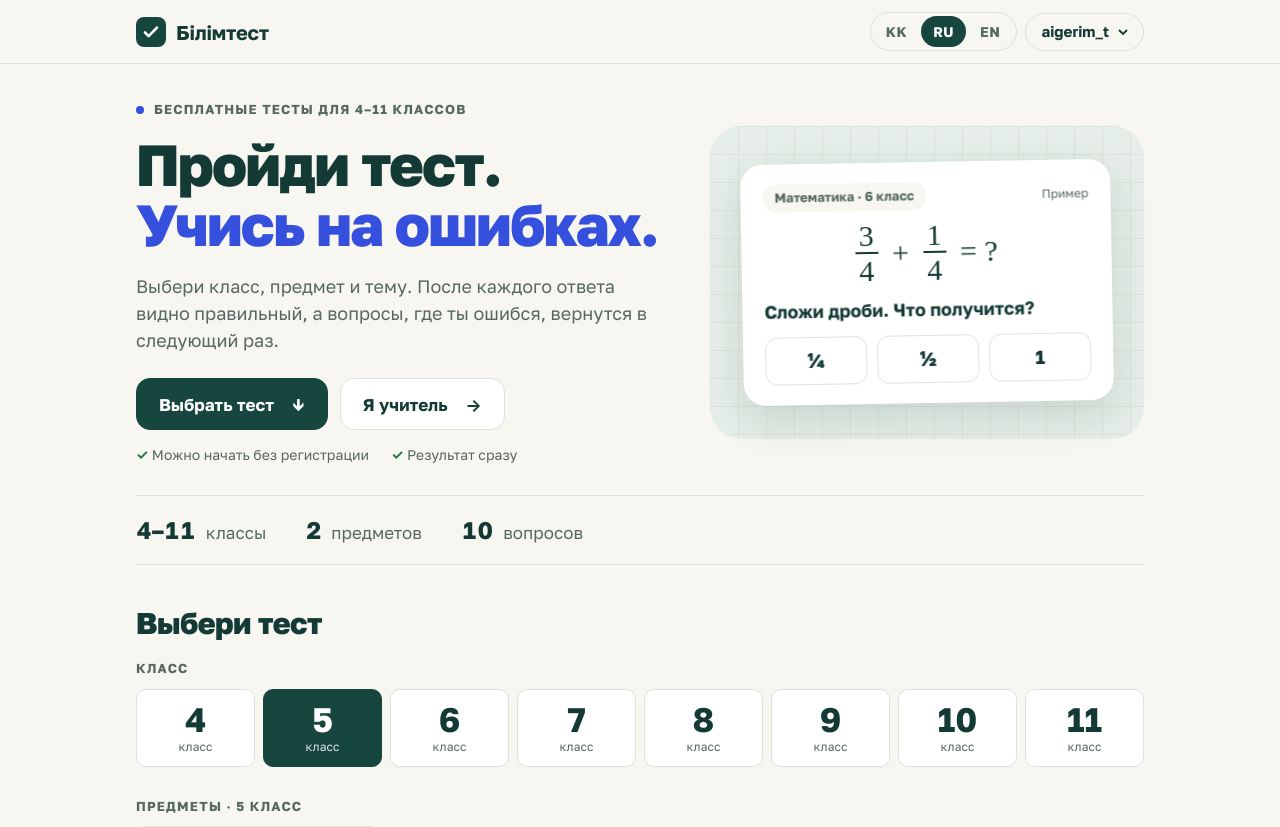
Test: сайт ученика › после входа в шапке — ник с меню «Кабинет / Админка / Выйти»; без входа — «Войти»
Step 1. Click the button with aria-label "Меню аккаунта" → (1084, 32), box [1024,12,1144,50]
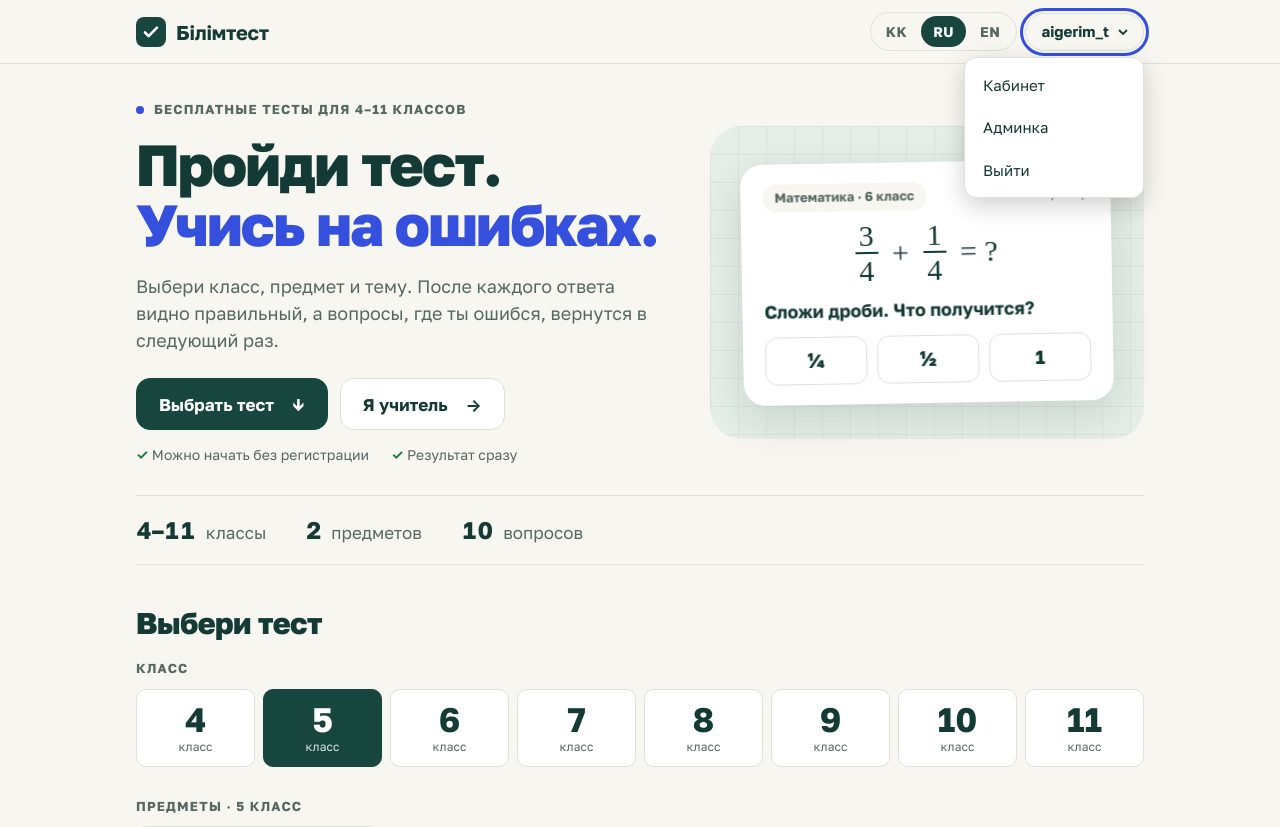
Expected: the text "aigerim_t" is shown, [1042,20,1109,43]
Step 2. Press Escape
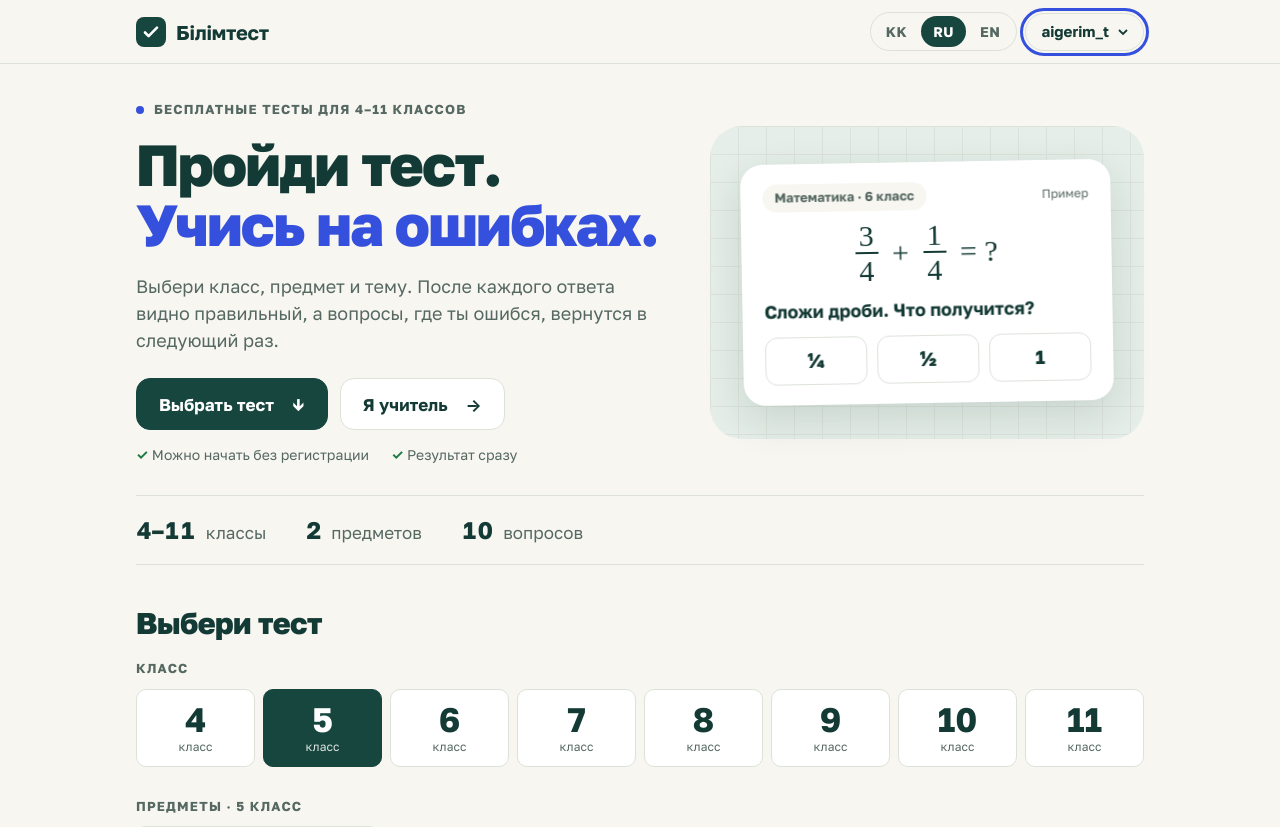
Expected: the menu is gone
